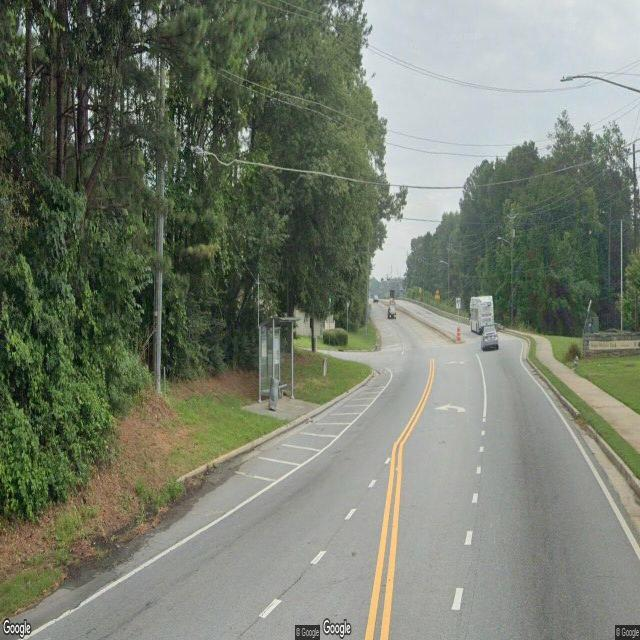seating: (278, 382, 287, 402)
shelter: (257, 314, 301, 410)
trash_can: (268, 378, 280, 412)
